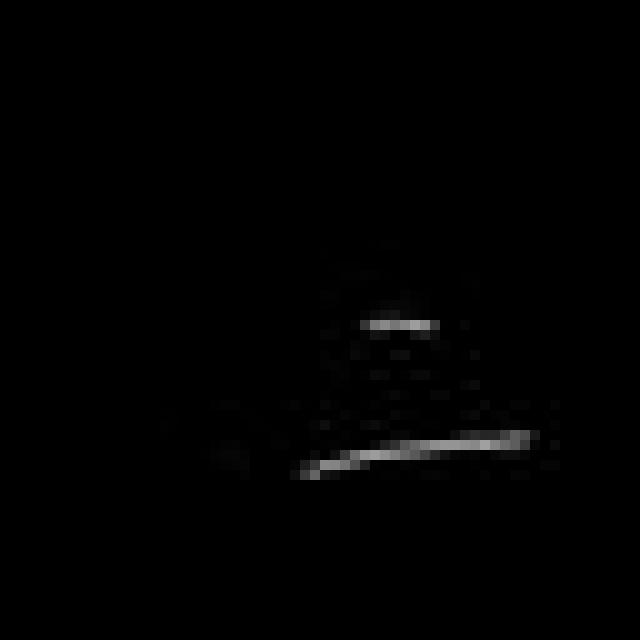2 -two-: (279, 300, 547, 489)
